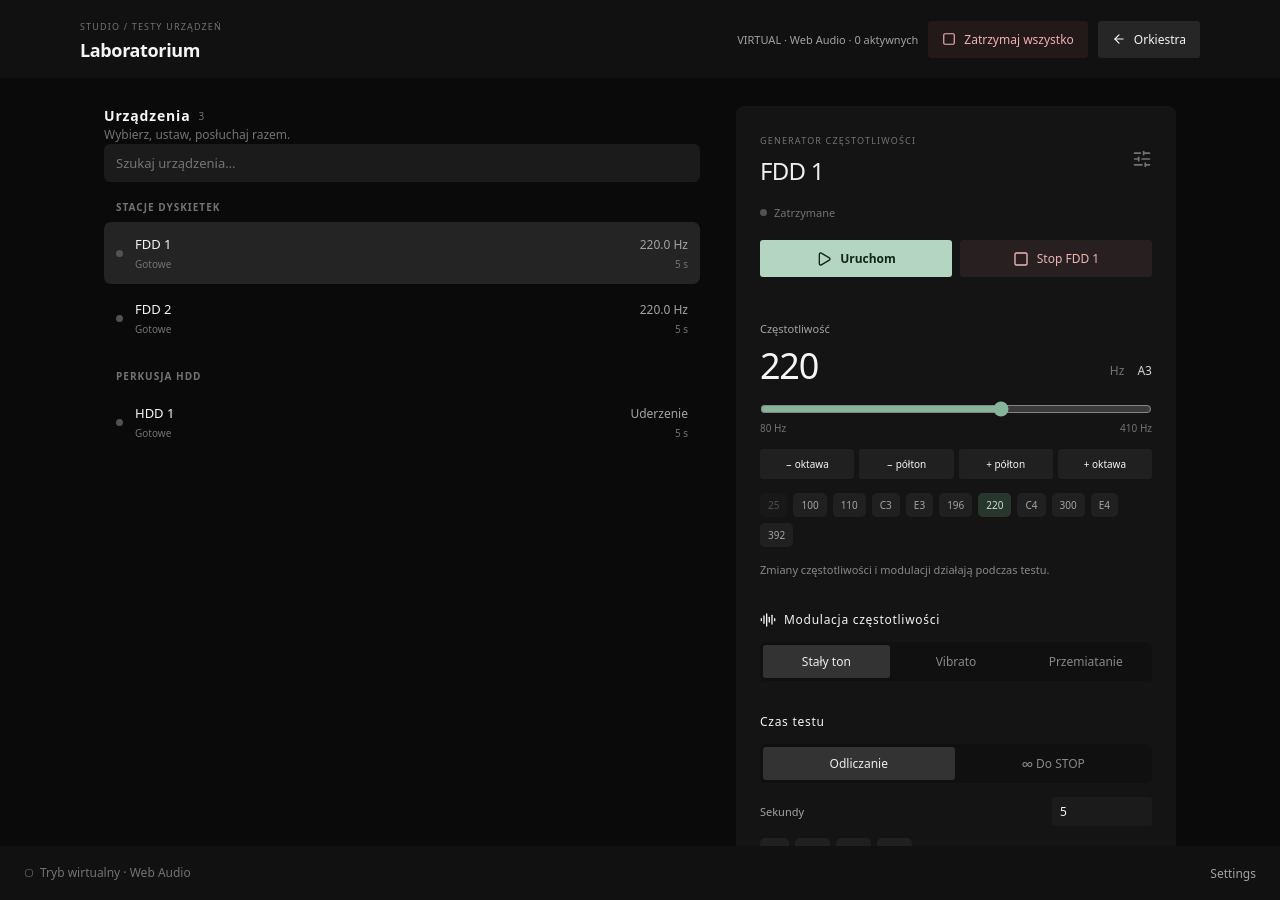
it: Laboratory rack › retains independent frequency, modulation and duration when changing devices
Replace the text in the number field named "Częstotliwość Hz" with "300" at (931, 362), box x1=760 y1=336 x2=1102 y2=387
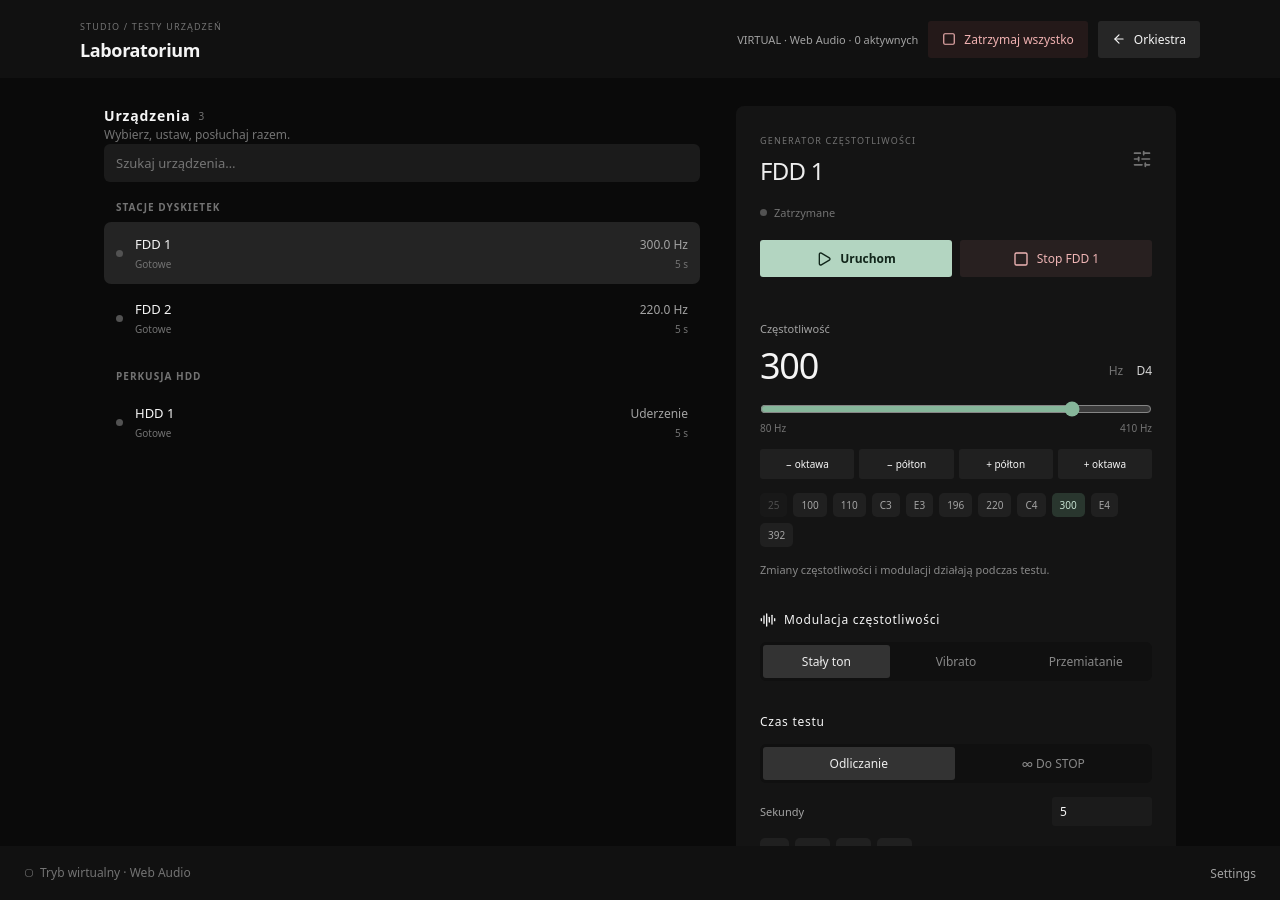
Click the button "∞ Do STOP" at (1053, 764), box x1=958 y1=747 x2=1149 y2=780
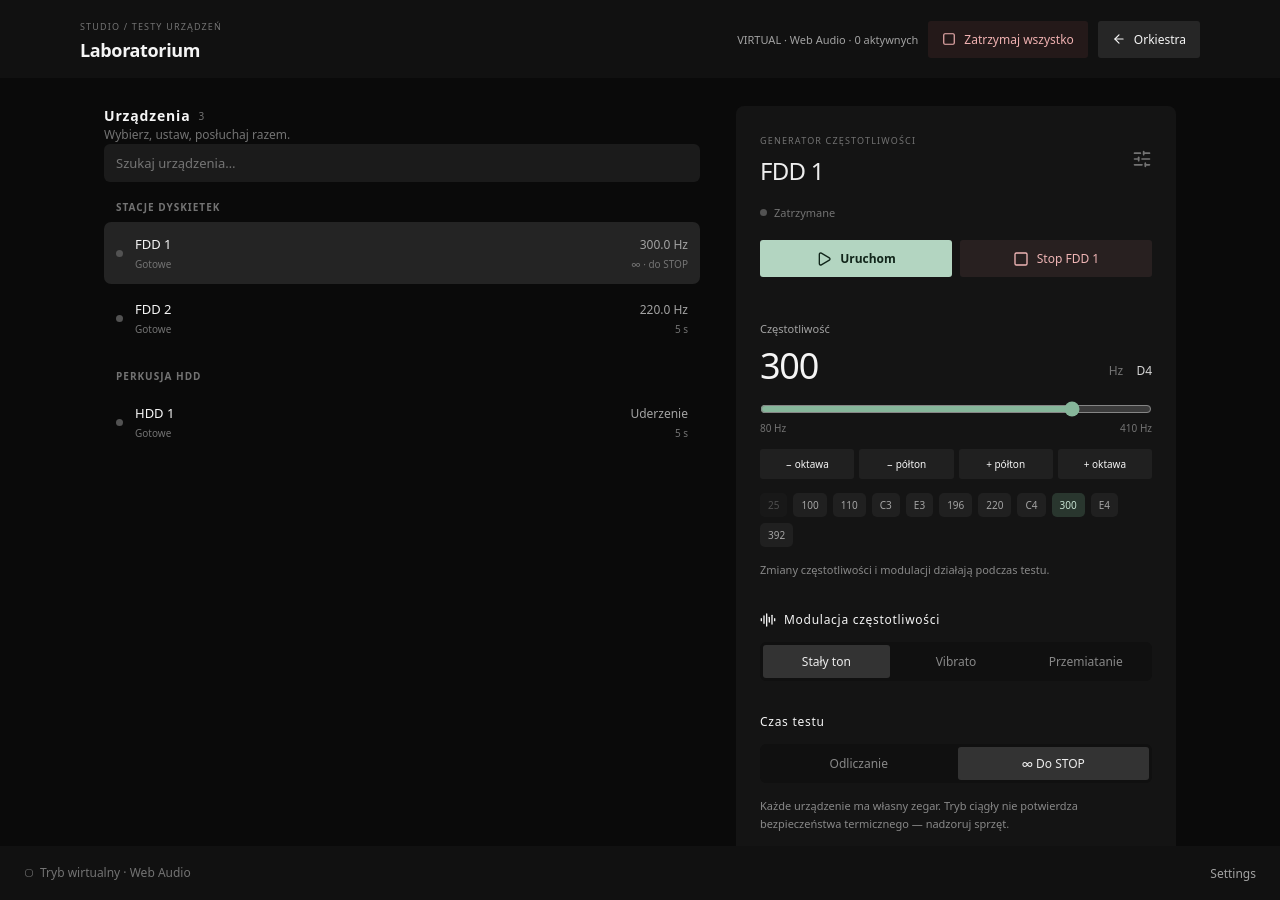
Click the button "Vibrato" at (956, 662), box x1=893 y1=645 x2=1019 y2=678
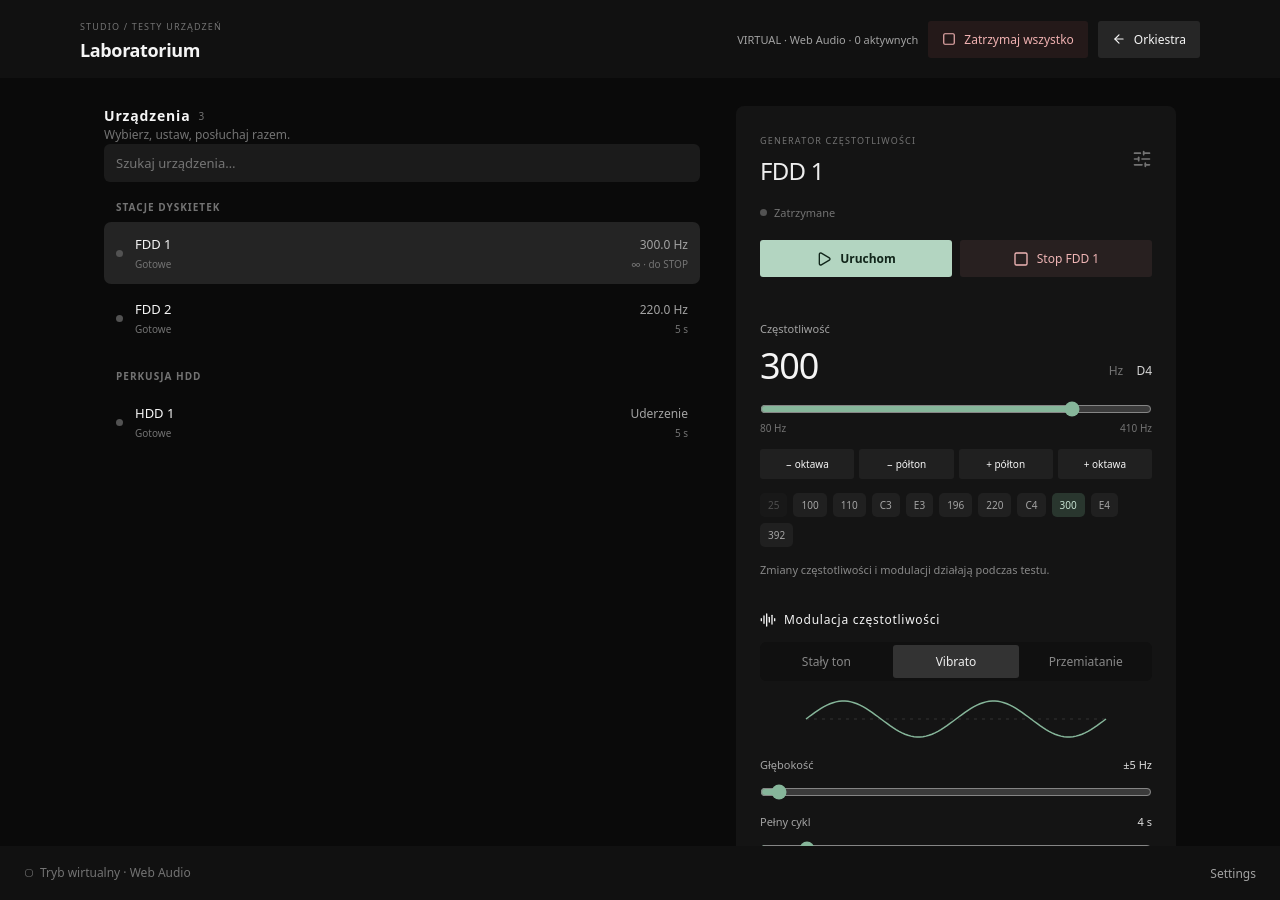
Set the slider named "Głębokość modulacji Hz" to "12" at (795, 792), box x1=760 y1=784 x2=1152 y2=800
Click the button with aria-label "Ustawienia FDD 2" at (153, 309), box x1=104 y1=287 x2=700 y2=349
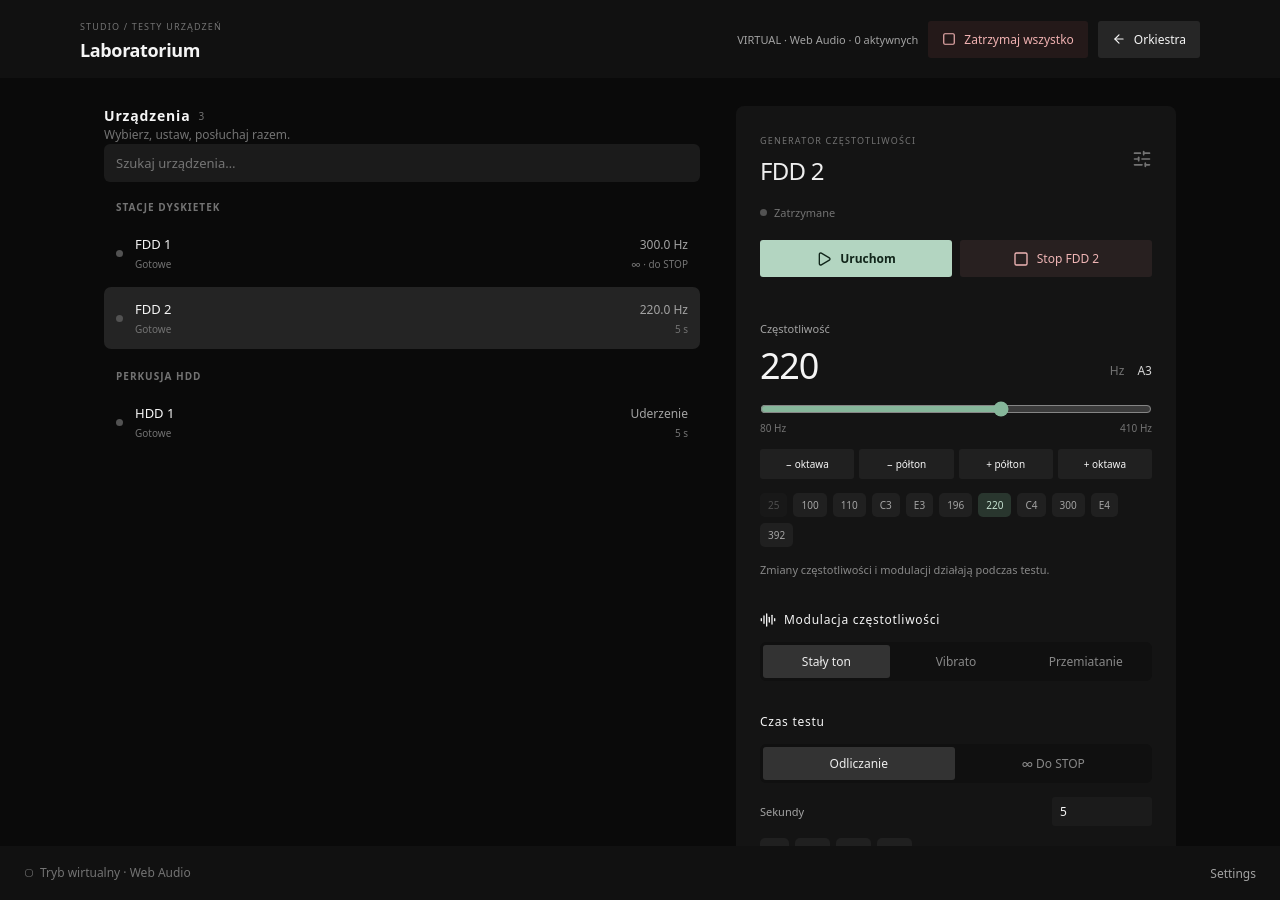
Expected: the number field named "Częstotliwość Hz" holds "220"
Replace the text in the number field named "Częstotliwość Hz" with "200" at (931, 362), box x1=760 y1=336 x2=1102 y2=387
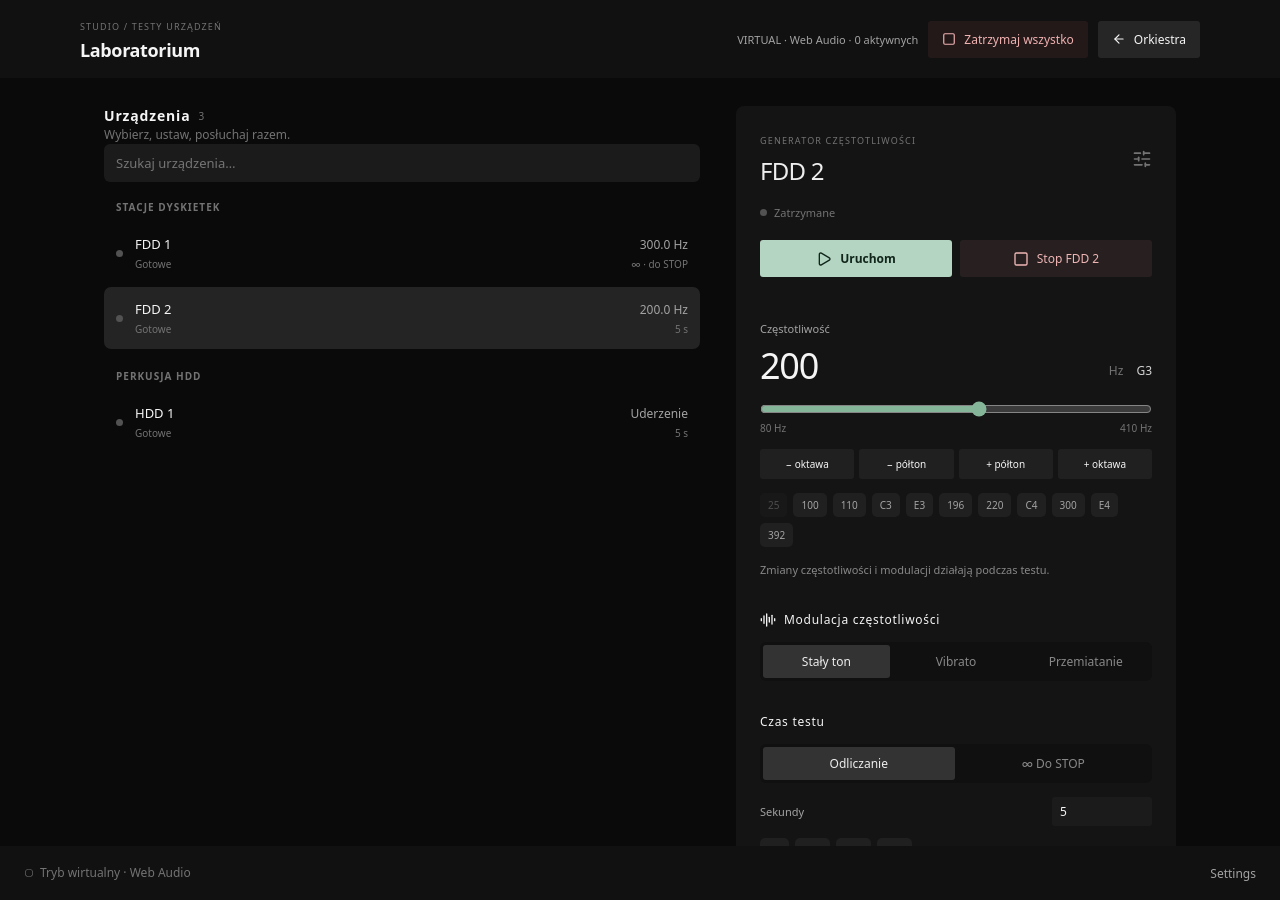
Click the button with aria-label "Ustawienia FDD 1" at (153, 244), box x1=104 y1=222 x2=700 y2=284
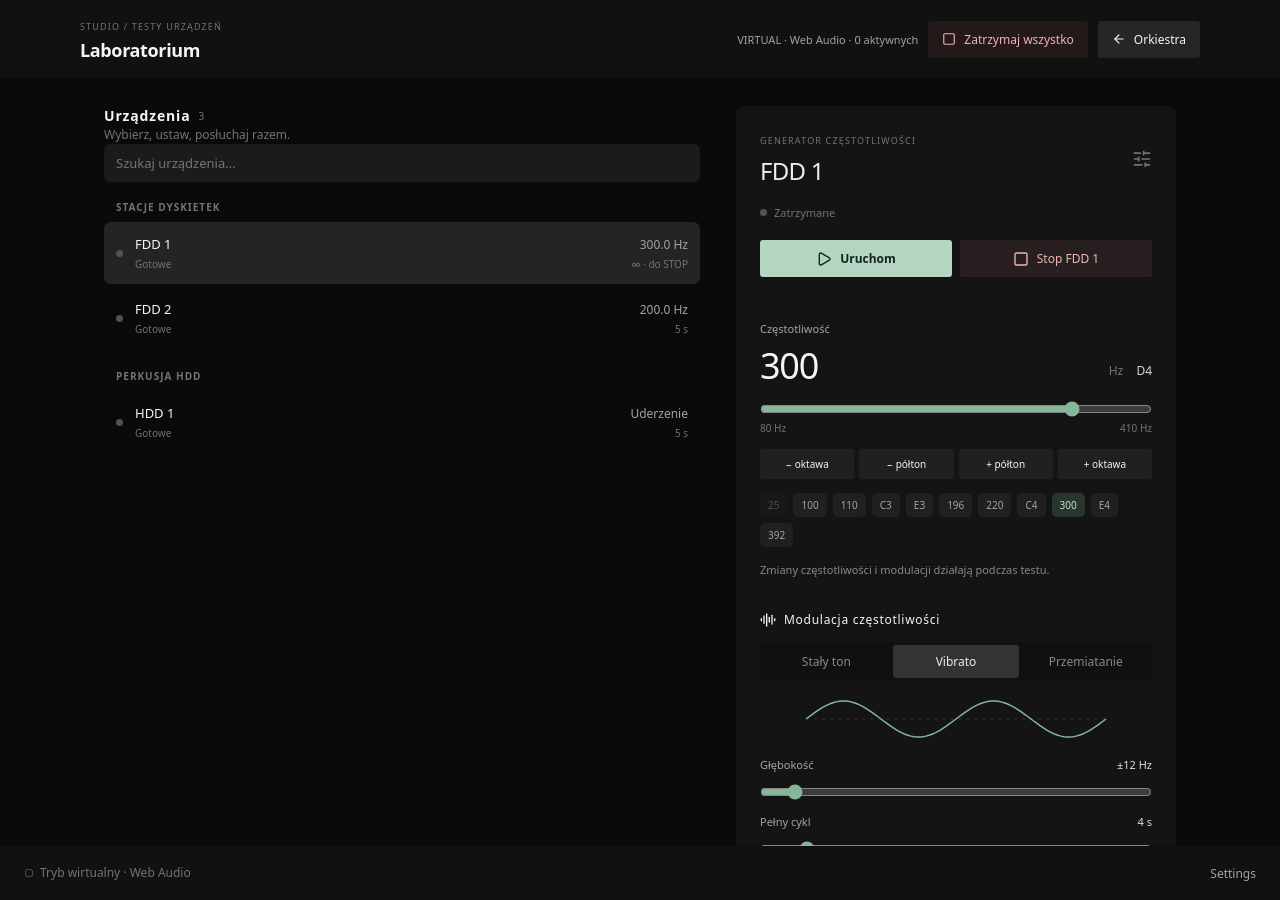
Expected: the slider named "Głębokość modulacji Hz" holds "12", x1=760 y1=784 x2=1152 y2=800
